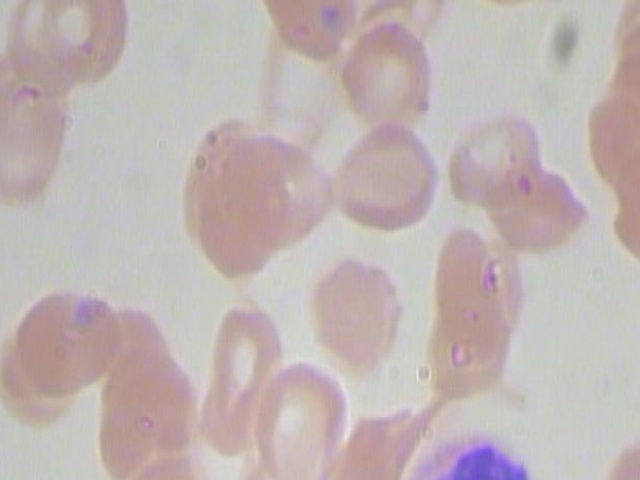RBC: (182, 135, 297, 284), (191, 290, 288, 459), (324, 112, 441, 240), (328, 12, 442, 136), (13, 273, 127, 396), (244, 358, 356, 480), (301, 249, 407, 375), (475, 155, 593, 255), (441, 107, 552, 209), (39, 0, 131, 86), (246, 0, 363, 61)
WBC: (396, 429, 549, 480)
